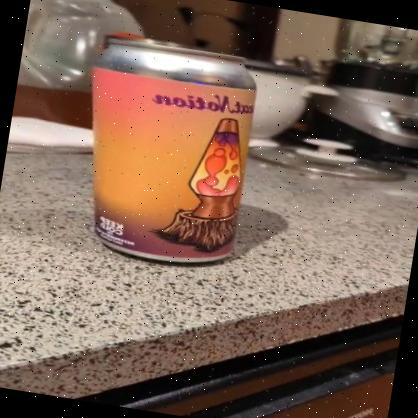can: (66, 31, 266, 274)
